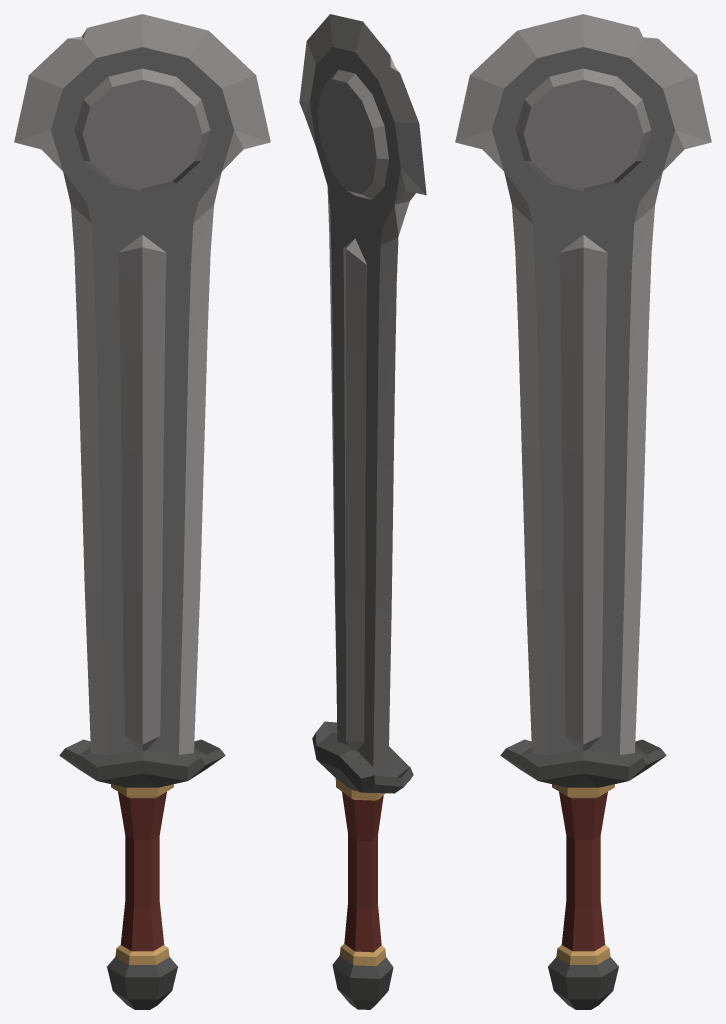
Rendered from SM_Wep_Greatsword_Round_01.glb.
3 views of the same model, side by side, from view 1: azimuth 90°, elevation 25°; view 2: azimuth 210°, elevation 25°; view 3: azimuth 270°, elevation 25° (orthographic).
Parts seen in each view (by area): view 1: SM_Wep_Greatsword_Round_01; view 2: SM_Wep_Greatsword_Round_01; view 3: SM_Wep_Greatsword_Round_01.
Part boxes in pixels (x1=…): SM_Wep_Greatsword_Round_01: x1=14, y1=14, x2=270, y2=1009; SM_Wep_Greatsword_Round_01: x1=299, y1=14, x2=426, y2=1009; SM_Wep_Greatsword_Round_01: x1=455, y1=14, x2=711, y2=1009.
Bounding box in the file's own units: 0.000772 × 0.0151 × 0.00354.
1 material, 1 textured.
